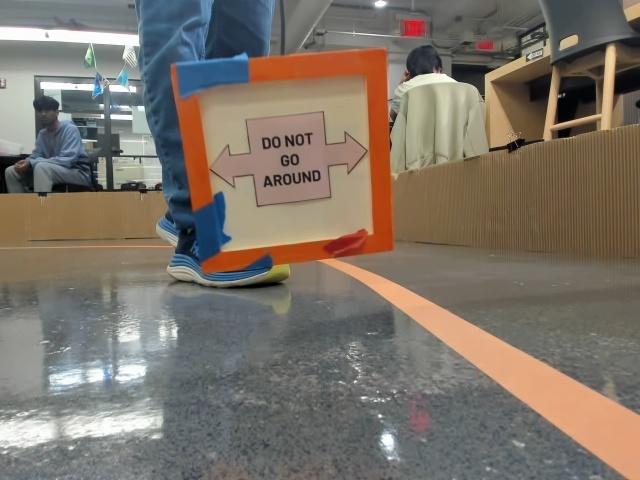Do Not Go Around: (204, 124, 363, 210)
